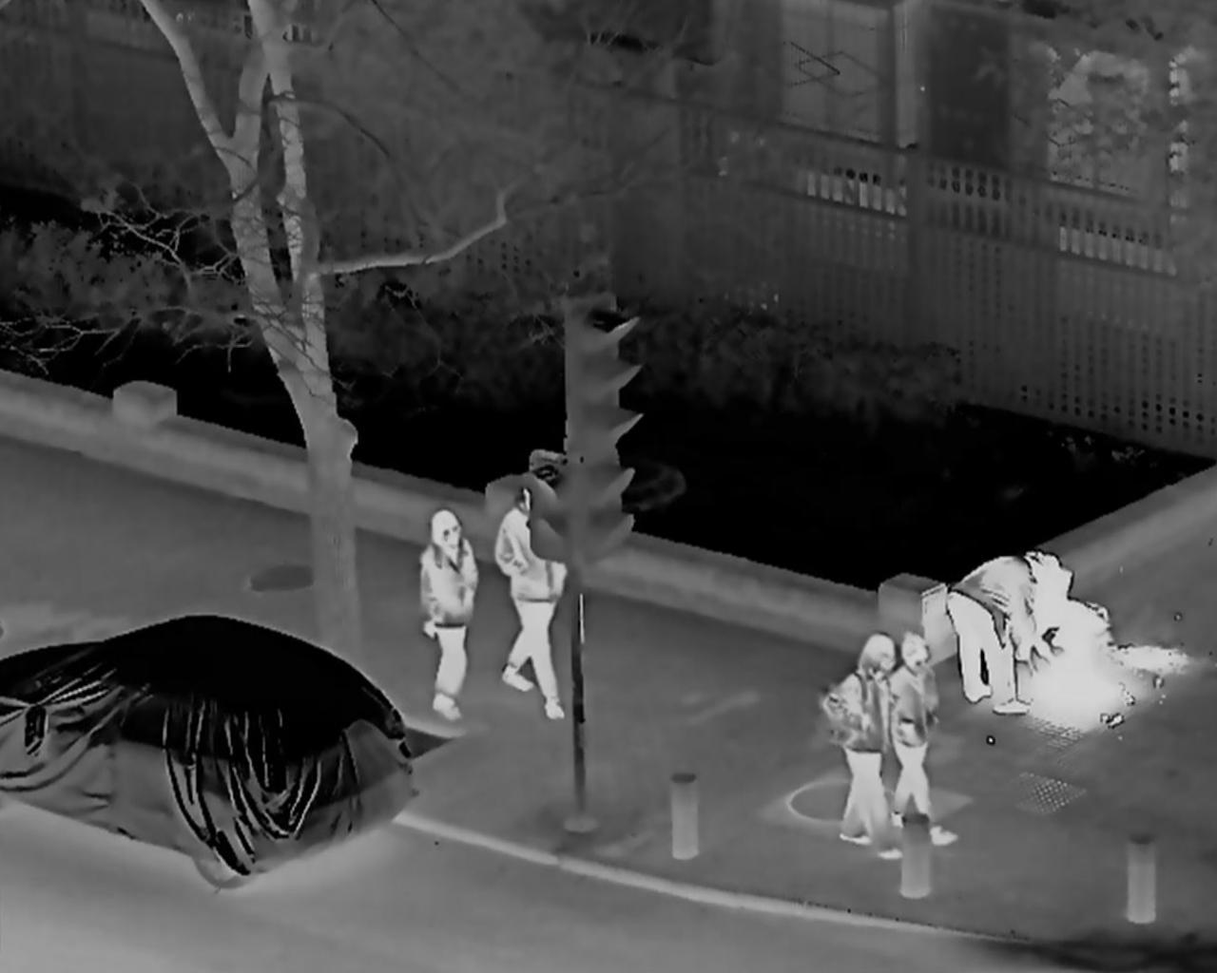person: (817, 635, 904, 861), (497, 480, 570, 723), (882, 633, 957, 848), (947, 550, 1040, 710), (417, 511, 474, 728), (1016, 555, 1108, 654)
